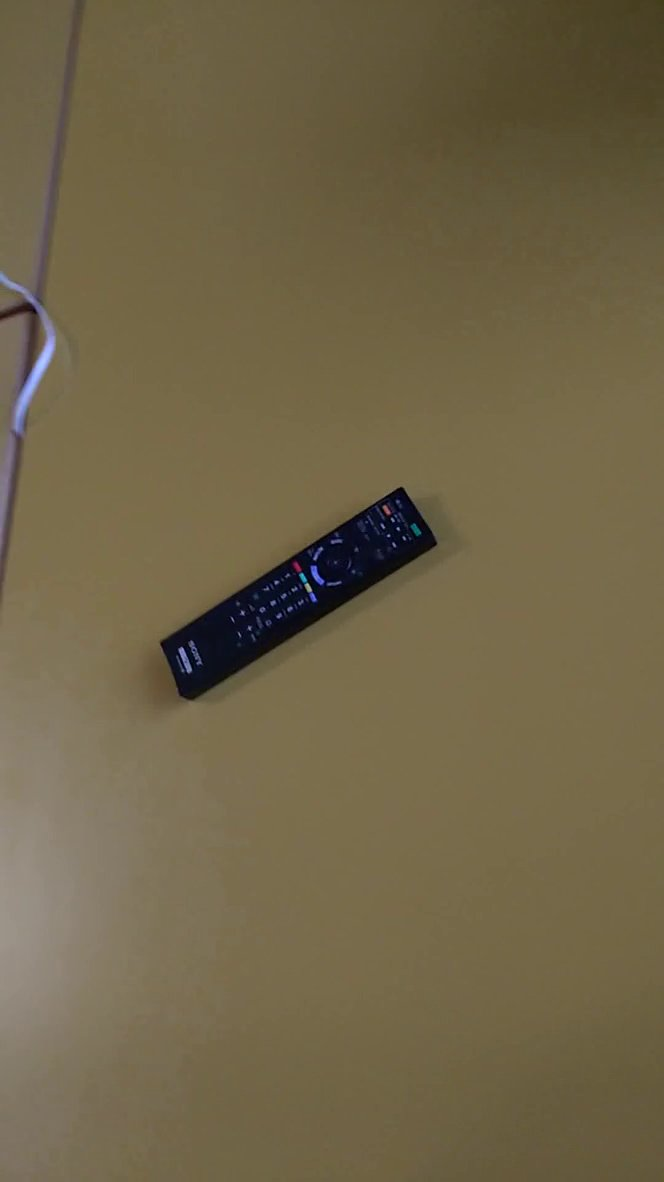remote: (140, 479, 459, 720)
